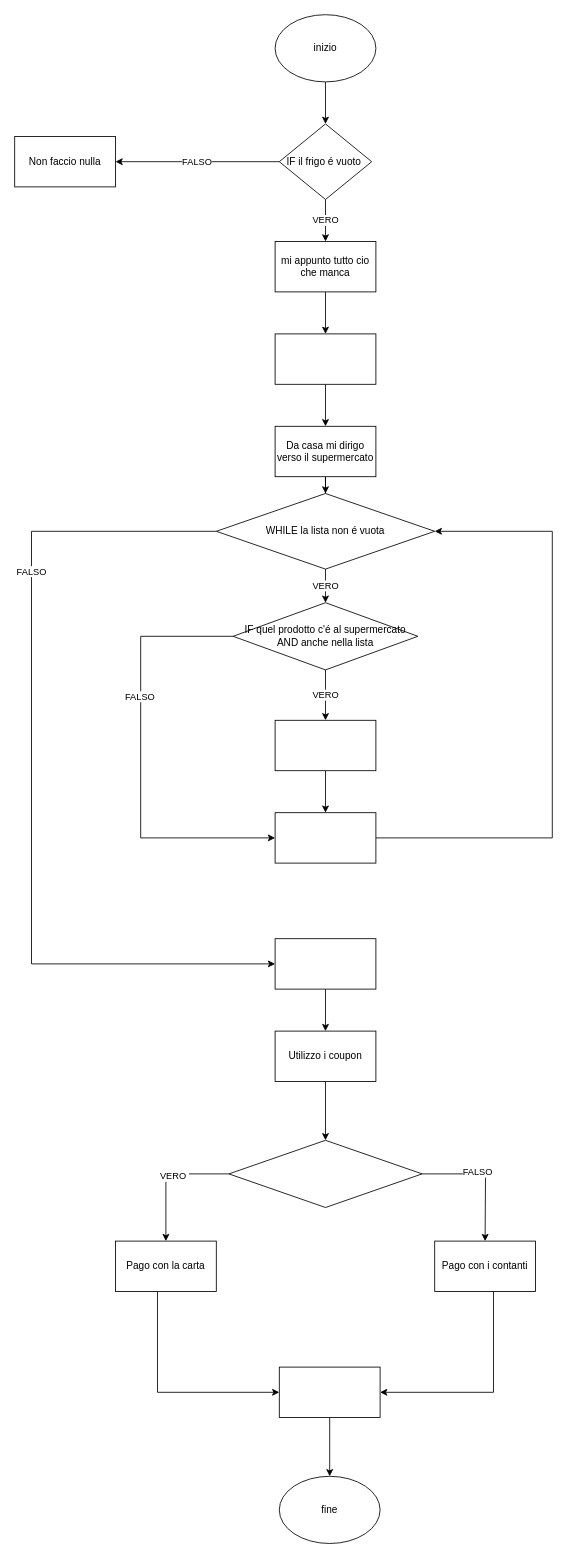
Image size: 574x1558. Some labels were removed from this diagram. Each missing label, with the centre of its shape:
"Aggiungo il prodotto nel carrello" belongs at point 325,745.
"IF ho comprato snack extra AND non mi bastano i contanti" belongs at point 325,1173.
"Mi dirigo verso la cassa" belongs at point 325,963.
"Prendo tutto cio che mi serve tra cui i coupon e il portafoglio" belongs at point 325,358.
"Tolgo il prodotto dalla lista della spesa" belongs at point 325,837.
"Torno a casa" belongs at point 329,1392.
